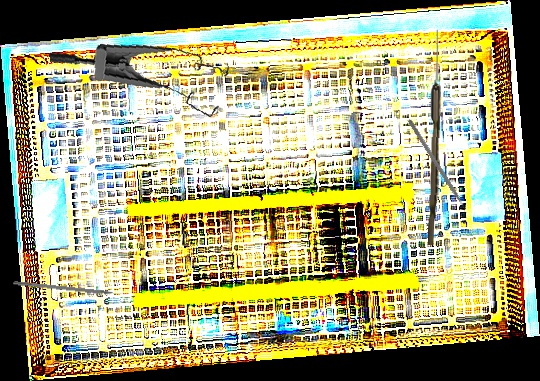Chopper: (402, 118, 471, 220)
Hook Surgical: (13, 281, 128, 298)
Speculum: (48, 26, 236, 139)
Surgical Spoon: (427, 29, 443, 246)
